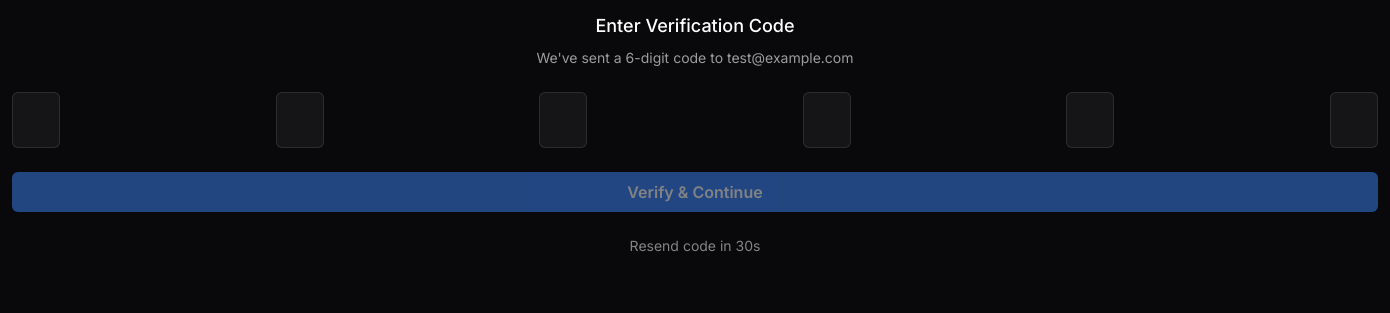
it: OTPVerification Component › displays error on verification failure
The width and height of the screenshot is (1390, 313).
Type "1" into the 1st field at (36, 120), box [12,92,60,148]
Type "1" into the 2nd field at (300, 120), box [276,92,324,148]
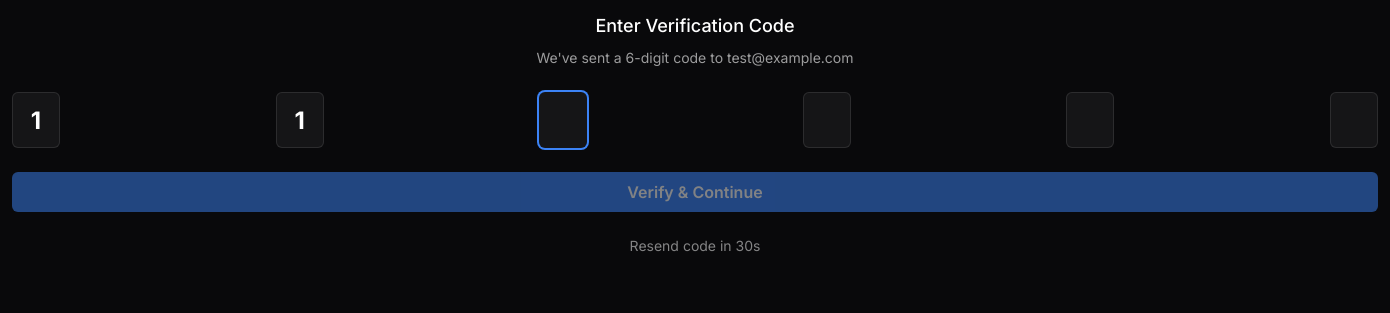
Type "1" into the 3rd field at (563, 120), box [539,92,587,148]
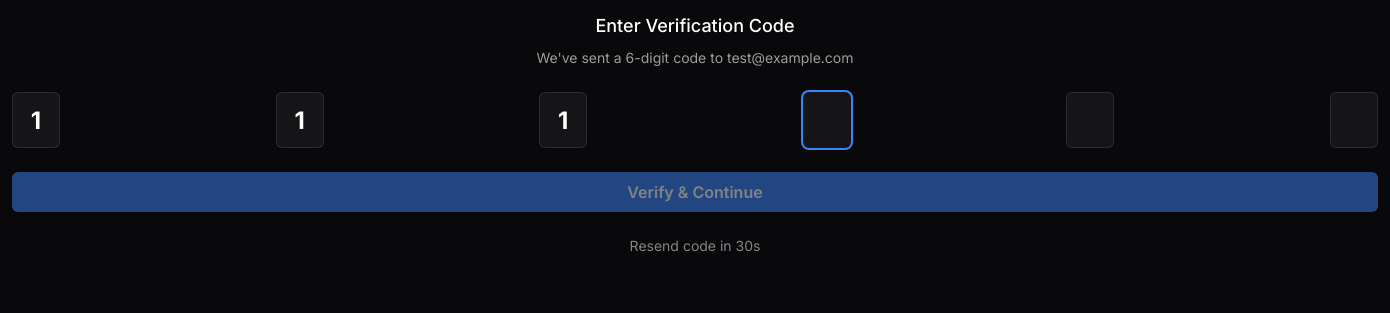
Type "1" into the 4th field at (827, 120), box [803,92,851,148]
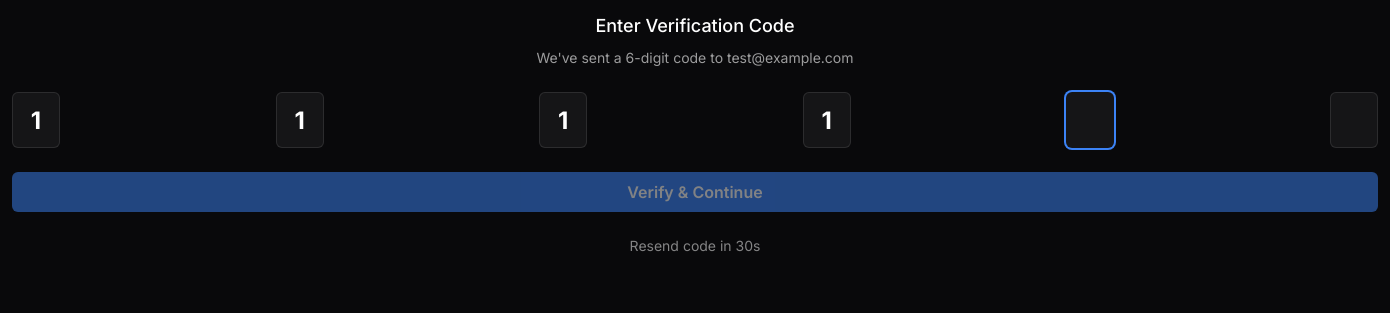
Type "1" into the 5th field at (1090, 120), box [1066,92,1114,148]
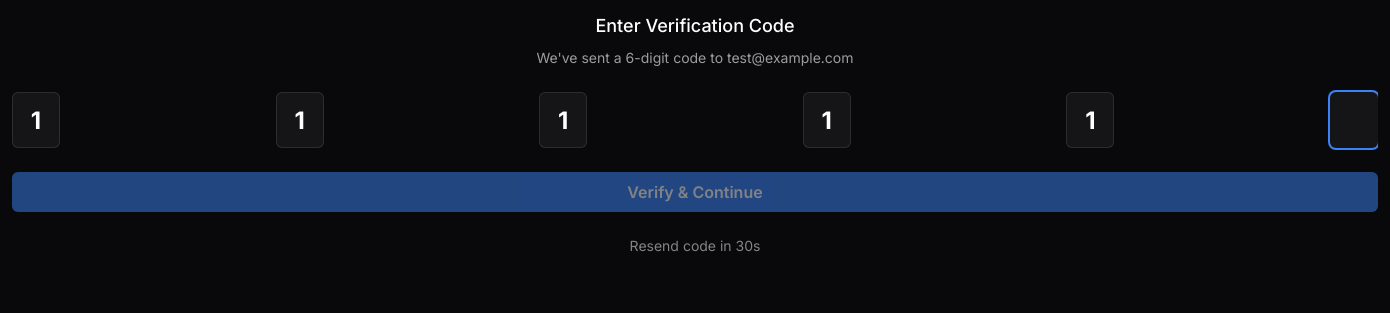
Type "1" into the 6th field at (1354, 120), box [1330,92,1378,148]
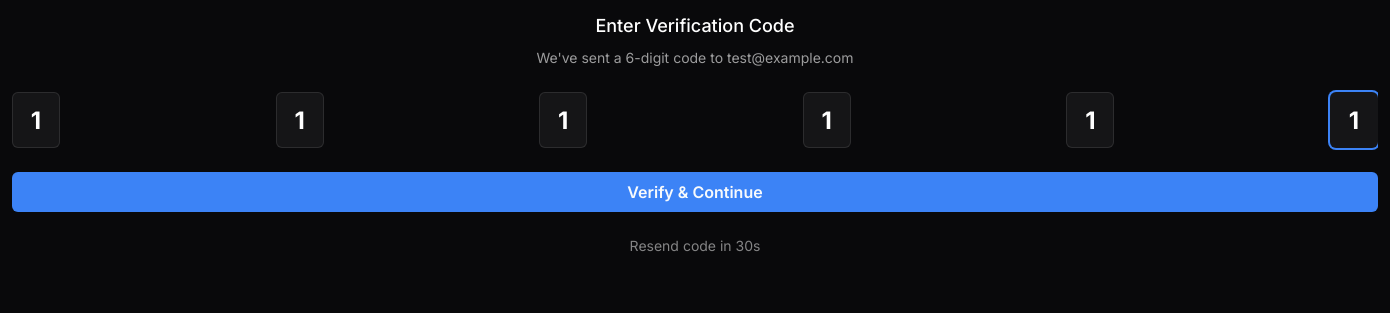
Click the button "Verify & Continue" at (695, 192), box [12,172,1378,212]
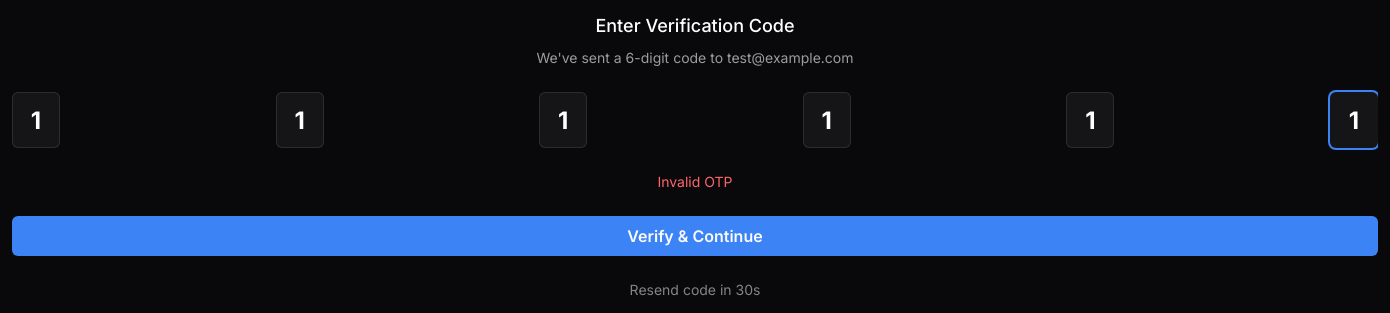
Now the text "Invalid OTP" is shown, box [658,173,732,190]
